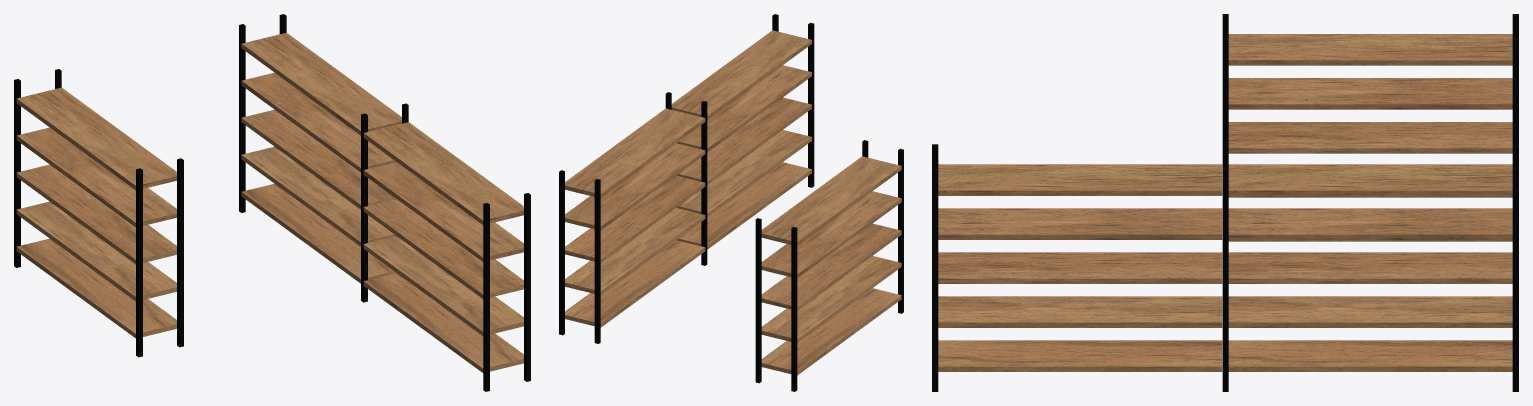
File: szafki.obj
The picture shows the model from 3 angles, left to right: view 1: azimuth 30°, elevation 25°; view 2: azimuth 150°, elevation 25°; view 3: azimuth 270°, elevation 25°; orthographic projection. The views are drawn at different scales.
Parts seen in each view (by area): view 1: Shelves1.001; view 2: Shelves1.001; view 3: Shelves1.001.
Part boxes in pixels (x1=…): Shelves1.001: x1=14, y1=14, x2=530, y2=391; Shelves1.001: x1=559, y1=14, x2=903, y2=391; Shelves1.001: x1=932, y1=14, x2=1518, y2=391.
Bounding box in the file's own units: 1.85 × 1.22 × 2.93.
